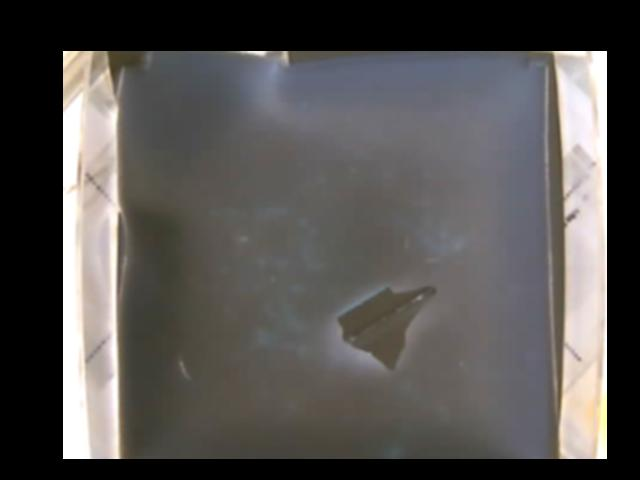China: (335, 280, 436, 368)
